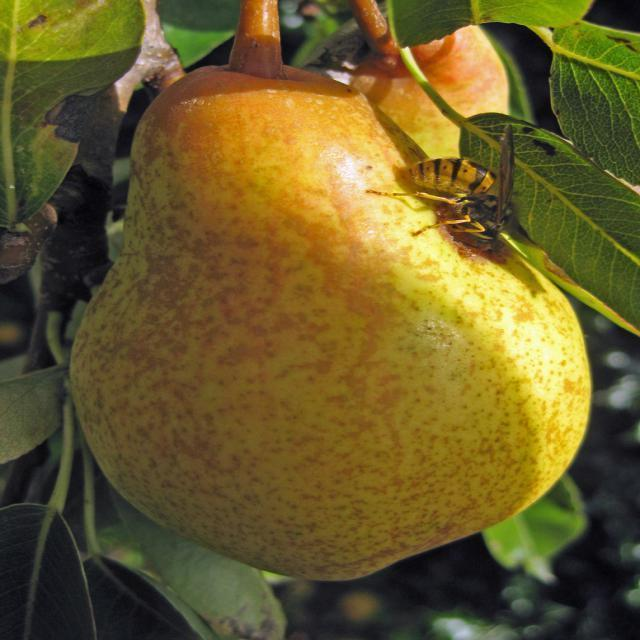Pear: (70, 64, 591, 580), (348, 25, 511, 159)
